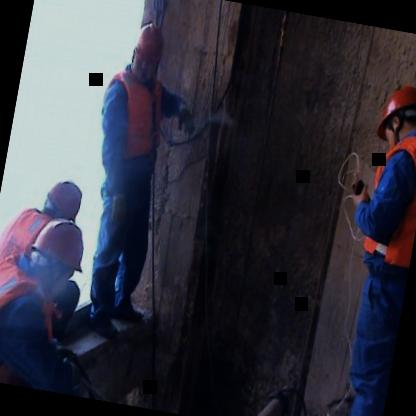helmet: (19, 209, 90, 306), (369, 76, 416, 160), (32, 170, 90, 235), (124, 15, 172, 90)
